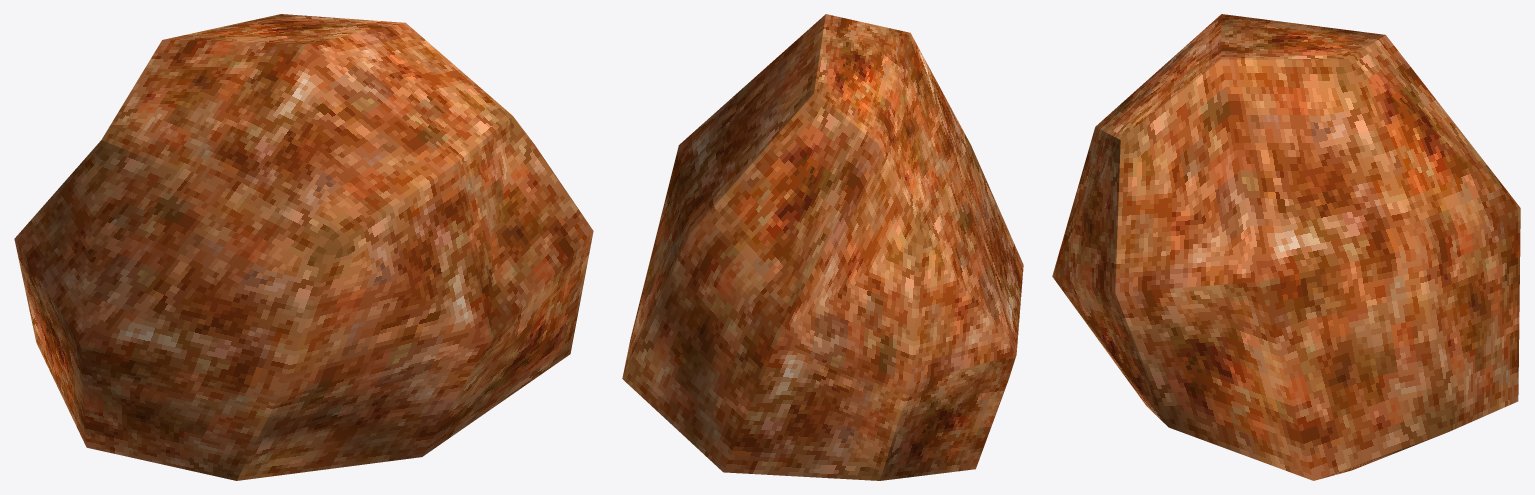
3 renders of one model, left to right at view 1: azimuth 30°, elevation 25°; view 2: azimuth 150°, elevation 25°; view 3: azimuth 270°, elevation 25°, orthographic. The views are drawn at different scales.
Visible parts, largest first — view 1: MN_03; view 2: MN_03; view 3: MN_03.
Part boxes in pixels (left/top/right/bottom): MN_03: left=14, top=14, right=593, bottom=480; MN_03: left=622, top=14, right=1023, bottom=480; MN_03: left=1052, top=14, right=1520, bottom=480.
Size of the model in its own units: 0.3998 by 0.4004 by 0.4009.
Materials: 1 (1 with a texture image).
